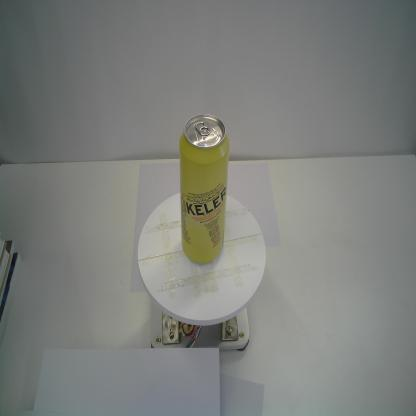Alcohol: (176, 112, 232, 268)
